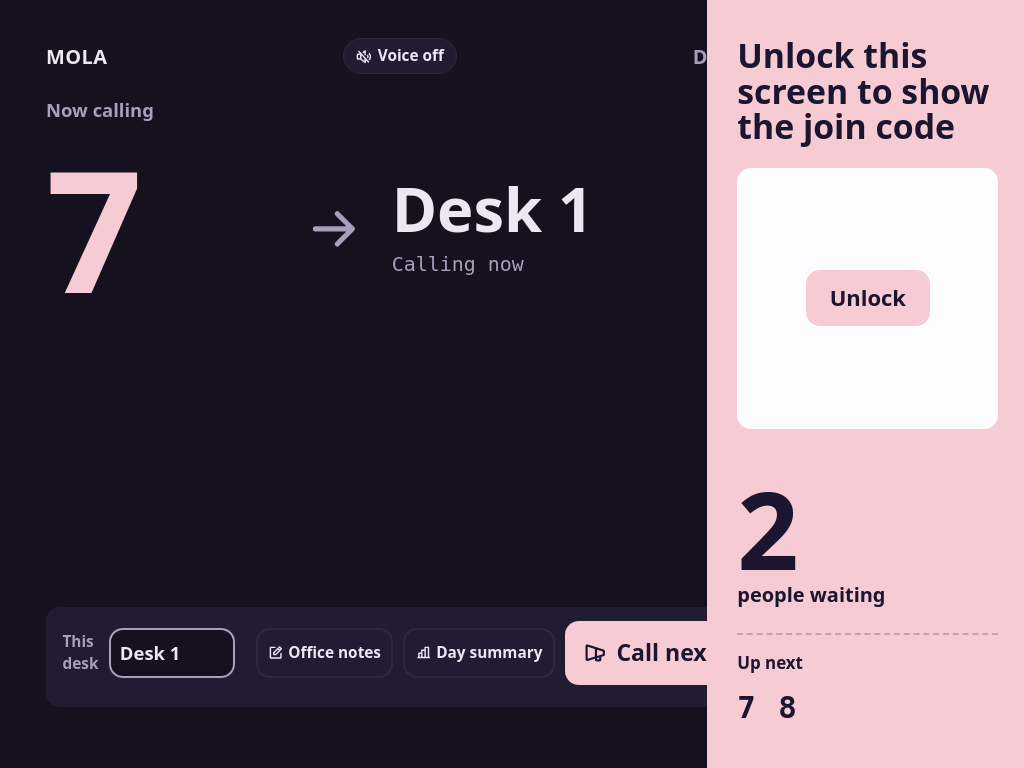
it: staff controls › says the desk is still calling someone
Step 1. Click the button "Call next" → x=650, y=653, box 565,621 -> 735,685
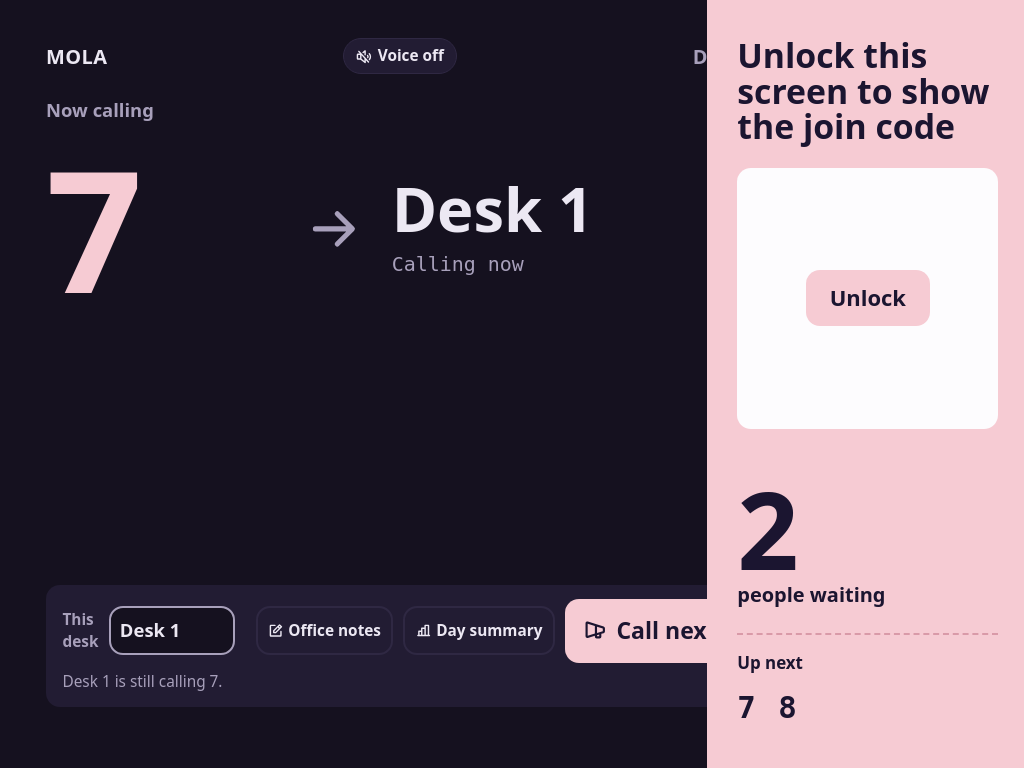
Now the text "Desk 1 is still calling 7." is shown, box 62,670 -> 222,692
